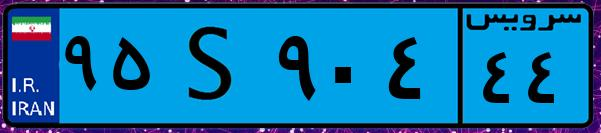0: (330, 28, 385, 110)
4: (385, 28, 445, 110), (475, 38, 525, 113), (525, 38, 570, 115)
5: (110, 28, 158, 98)
9: (270, 28, 330, 110), (57, 26, 110, 100)
S: (158, 12, 270, 120)
